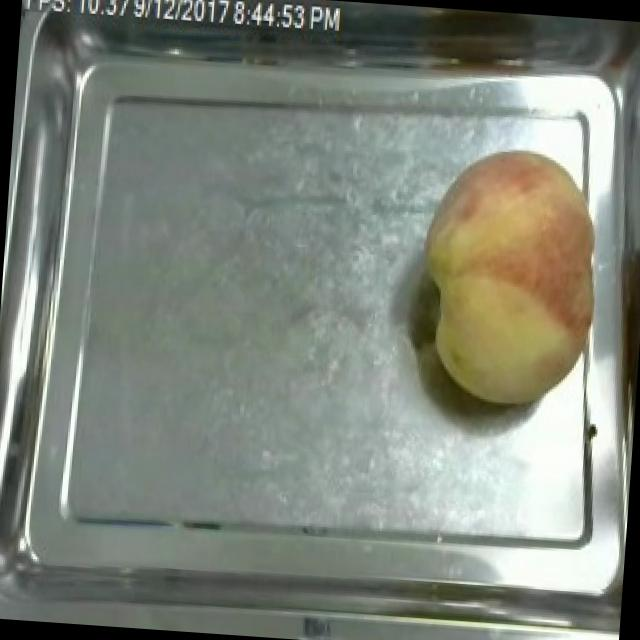Fruit: (404, 133, 619, 422)
